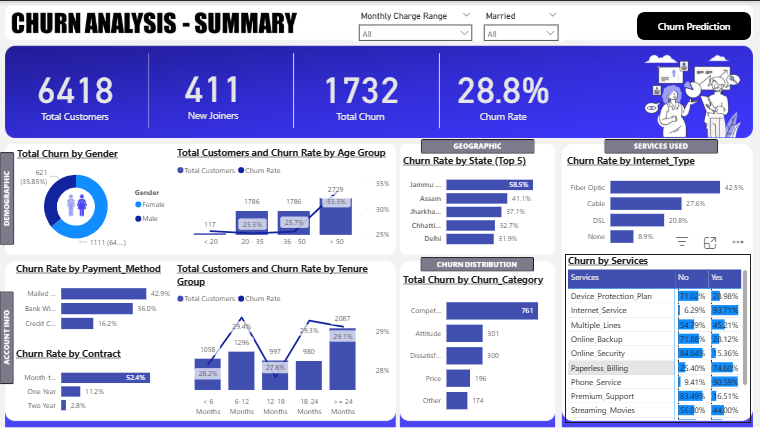

Layout of this report page (visuals, bound fields, positions):
{"tool":"powerbi","page":{"name":"Summary","canvas":[1280,720],"ordinal":0},"visuals":[{"type":"image","box":[86.7,312.3,102.7,57.8],"z":0},{"type":"card","fields":{"Values":["tbl_Measures.Total Customers"]},"box":[2.9,75.2,251.6,159],"z":1000},{"type":"card","fields":{"Values":["tbl_Measures.Total Churn"]},"box":[491.6,75.2,248.7,159],"z":2000},{"type":"card","fields":{"Values":["tbl_Measures.New Joiners"]},"box":[254.5,75.2,237.1,159],"z":3000},{"type":"card","fields":{"Values":["tbl_Measures.Churn Rate","select"]},"box":[740.2,75.2,240,159],"z":4000},{"type":"donutChart","fields":{"Category":["prod_Churn.Gender"],"Y":["tbl_Measures.Total Churn"]},"box":[24.6,244.3,271.8,179.3],"z":5000},{"type":"lineStackedColumnComboChart","fields":{"Category":["mapping_AgeGrp.Age Group"],"Y":["tbl_Measures.Total Customers"],"Y2":["tbl_Measures.Churn Rate"]},"box":[296.4,244.3,367.2,179.3],"z":6000},{"type":"clusteredBarChart","fields":{"Category":["prod_Churn.Payment_Method"],"Y":["tbl_Measures.Churn Rate"]},"box":[24.6,438.1,271.8,128.7],"z":7000},{"type":"clusteredBarChart","fields":{"Category":["prod_Churn.Contract"],"Y":["tbl_Measures.Churn Rate"]},"box":[24.6,581.2,271.8,121.4],"z":8000},{"type":"lineStackedColumnComboChart","fields":{"Category":["mapping_TenureGrp.Tenure Group"],"Y":["tbl_Measures.Total Customers"],"Y2":["tbl_Measures.Churn Rate"]},"box":[296.4,438.1,367.2,266],"z":9000},{"type":"clusteredBarChart","title":"Churn Rate by State (Top 5)","fields":{"Category":["prod_Churn.State"],"Y":["tbl_Measures.Churn Rate"]},"box":[675.2,257.3,261.7,166.3],"z":10000},{"type":"clusteredBarChart","fields":{"Category":["prod_Churn.Churn_Category"],"Y":["tbl_Measures.Total Churn"]},"box":[675.2,456.9,261.7,250.1],"z":11000},{"type":"clusteredBarChart","fields":{"Category":["prod_Churn.Internet_Type"],"Y":["tbl_Measures.Churn Rate"]},"box":[951.3,257.3,312.3,166.3],"z":12000},{"type":"pivotTable","title":"Churn by Services","fields":{"Rows":["prod_Services.Services"],"Columns":["prod_Services.Status"],"Values":["Sum(prod_Services.Churn Status)"]},"box":[951.3,423.6,312.3,283.4],"z":13000},{"type":"slicer","fields":{"Values":["prod_Churn.Monthiy Charge Status"]},"box":[595.7,11.6,211.1,53.5],"z":14000},{"type":"slicer","fields":{"Values":["prod_Churn.Married"]},"box":[806.7,11.6,144.6,53.5],"z":15000},{"type":"shape","box":[1073.1,18.5,191.7,47.1],"z":15001}]}

Visuals, with their boxes in screenshot pixels (x1, y1, x2, y2), scaled from the page's 1280x720 canvas onto the 760x429 screenshot:
image: box(51, 186, 112, 221)
card - tbl_Measures.Total Customers: box(2, 45, 151, 140)
card - tbl_Measures.Total Churn: box(292, 45, 440, 140)
card - tbl_Measures.New Joiners: box(151, 45, 292, 140)
card - tbl_Measures.Churn Rate x select: box(439, 45, 582, 140)
donutChart - prod_Churn.Gender x tbl_Measures.Total Churn: box(15, 146, 176, 252)
lineStackedColumnComboChart - mapping_AgeGrp.Age Group x tbl_Measures.Total Customers: box(176, 146, 394, 252)
clusteredBarChart - prod_Churn.Payment_Method x tbl_Measures.Churn Rate: box(15, 261, 176, 338)
clusteredBarChart - prod_Churn.Contract x tbl_Measures.Churn Rate: box(15, 346, 176, 419)
lineStackedColumnComboChart - mapping_TenureGrp.Tenure Group x tbl_Measures.Total Customers: box(176, 261, 394, 420)
"Churn Rate by State (Top 5)" clusteredBarChart: box(401, 153, 556, 252)
clusteredBarChart - prod_Churn.Churn_Category x tbl_Measures.Total Churn: box(401, 272, 556, 421)
clusteredBarChart - prod_Churn.Internet_Type x tbl_Measures.Churn Rate: box(565, 153, 750, 252)
"Churn by Services" pivotTable: box(565, 252, 750, 421)
slicer - prod_Churn.Monthiy Charge Status: box(354, 7, 479, 39)
slicer - prod_Churn.Married: box(479, 7, 565, 39)
shape: box(637, 11, 751, 39)
